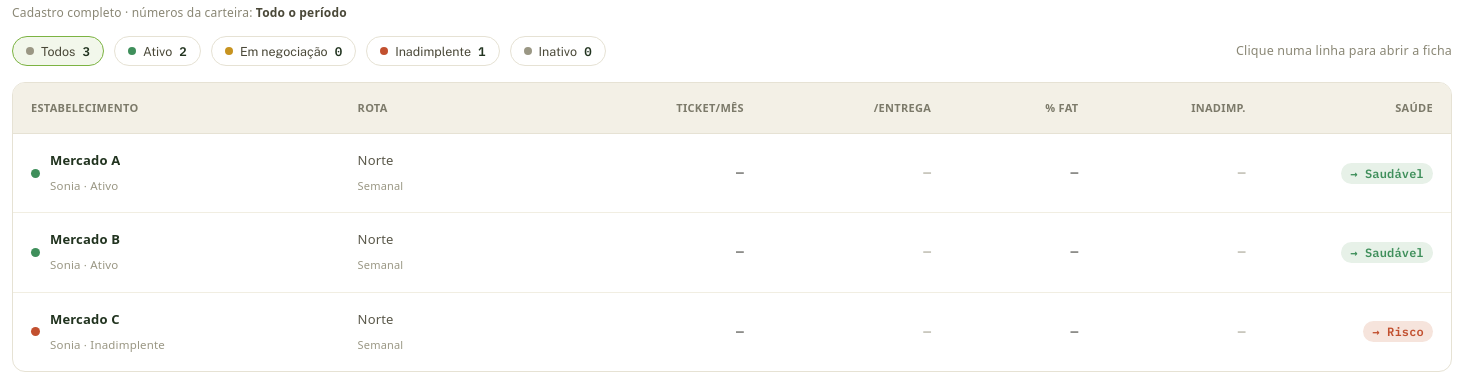
ClientesLista — filtro por status › clicar num filtro mostra so os clientes daquele status
The image size is (1464, 389).
Check: the text "Mercado A" is shown, box [50,147,120,173]
Click the button "Inadimplente 1" at (433, 51), box [366,36,500,66]
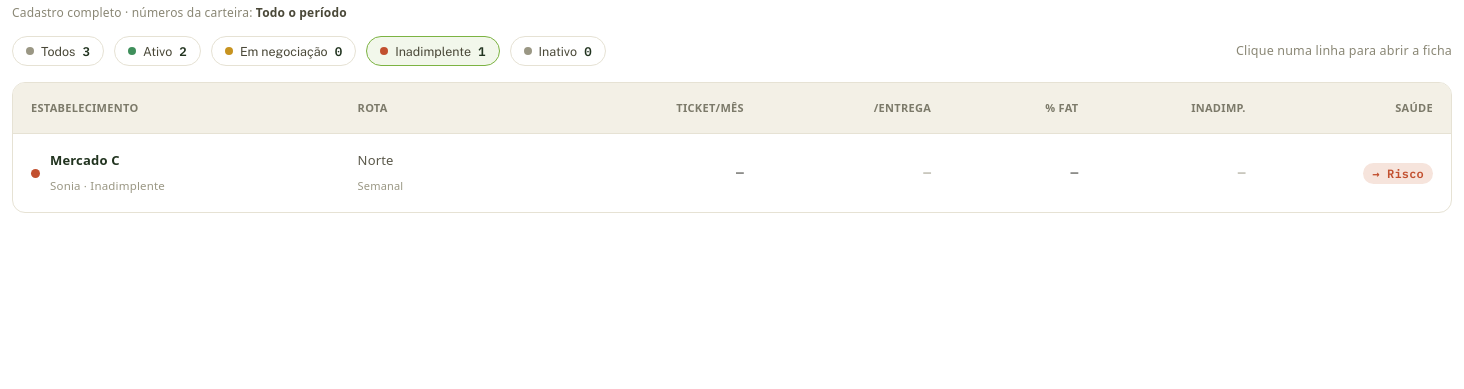
Check: the text "Mercado C" is shown, box [50,151,120,169]
Check: the text "Mercado A" is gone
Check: the text "Mercado B" is gone
